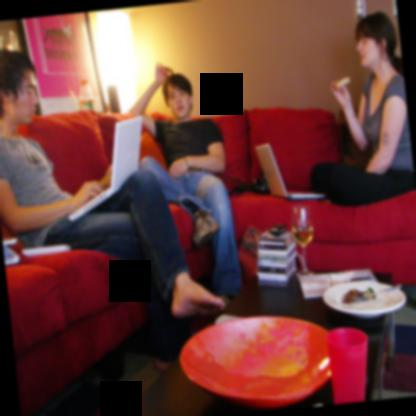handbag: (236, 223, 306, 291)
